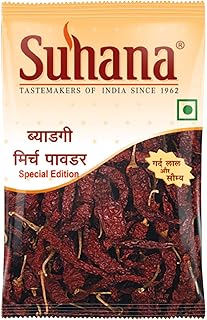Chilli Powder: (1, 4, 207, 320)
